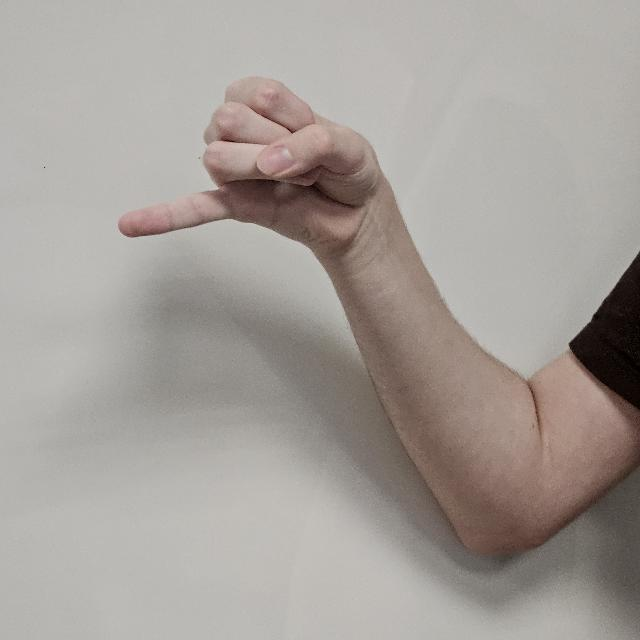Esquerda: (104, 46, 394, 296)
